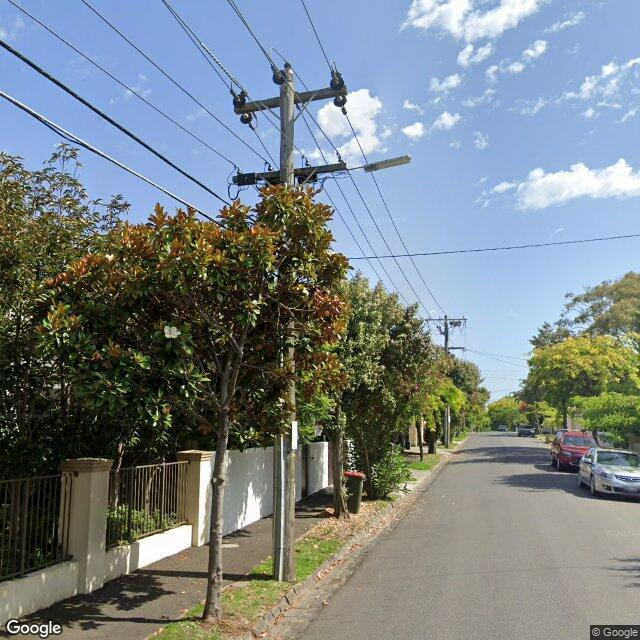HV-transmission: (229, 63, 347, 130)
crossarm: (234, 84, 348, 115), (232, 162, 347, 184), (424, 318, 467, 322), (440, 346, 466, 349)
streetlight: (345, 154, 412, 174)
timber-pole: (272, 68, 296, 581), (444, 315, 450, 448)
